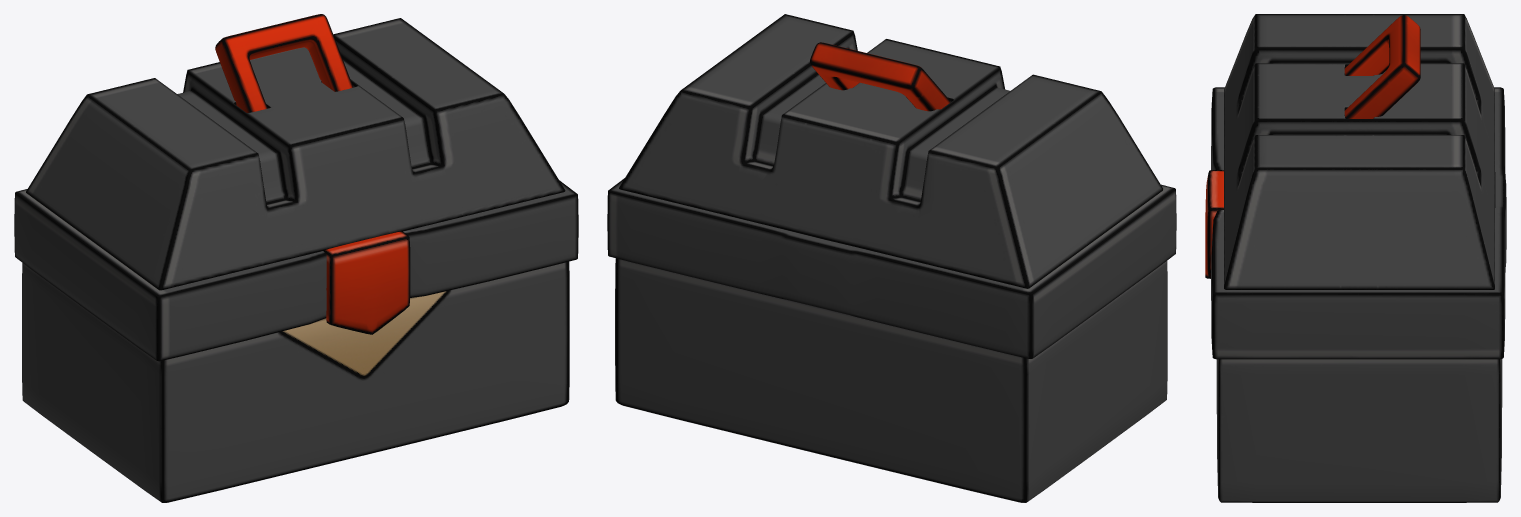
The model's file is repair.fbx.
3 renders of one model, left to right at view 1: azimuth 30°, elevation 25°; view 2: azimuth 150°, elevation 25°; view 3: azimuth 270°, elevation 25°, orthographic.
Parts seen in each view (by area): view 1: repair1; view 2: repair1; view 3: repair1.
Boxes of the visible parts, bbox=[...] form: repair1: bbox=[14, 14, 578, 502]; repair1: bbox=[607, 14, 1176, 502]; repair1: bbox=[1205, 14, 1506, 502].
Bounding box in the file's own units: 1.73 × 1.41 × 1.05.
